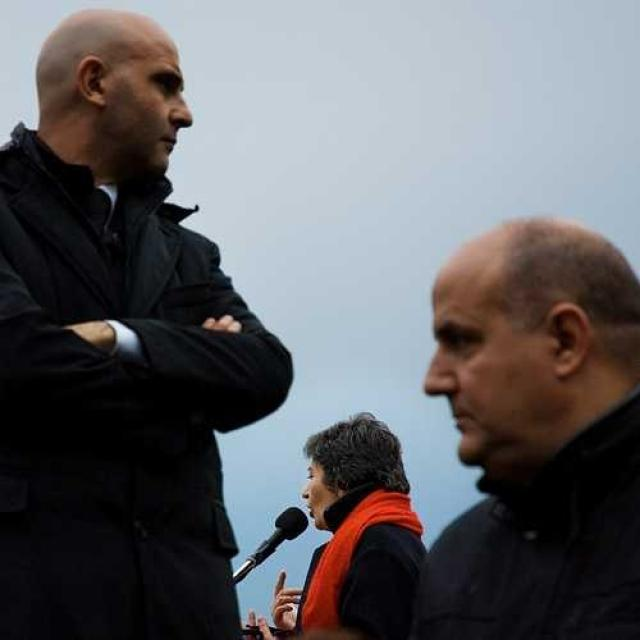microphone: (234, 508, 310, 586)
